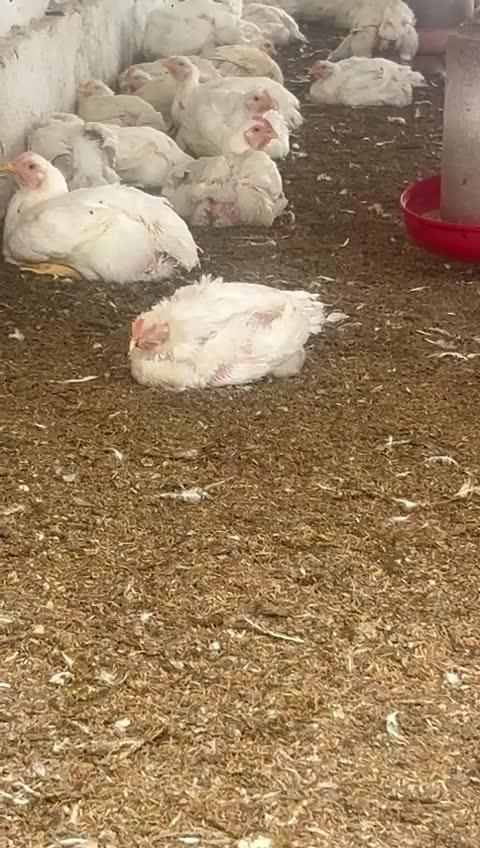AbNormal: (130, 287, 327, 394), (166, 115, 284, 225), (170, 55, 305, 140), (309, 55, 427, 109), (74, 75, 166, 141)
Normal: (0, 152, 202, 281)
